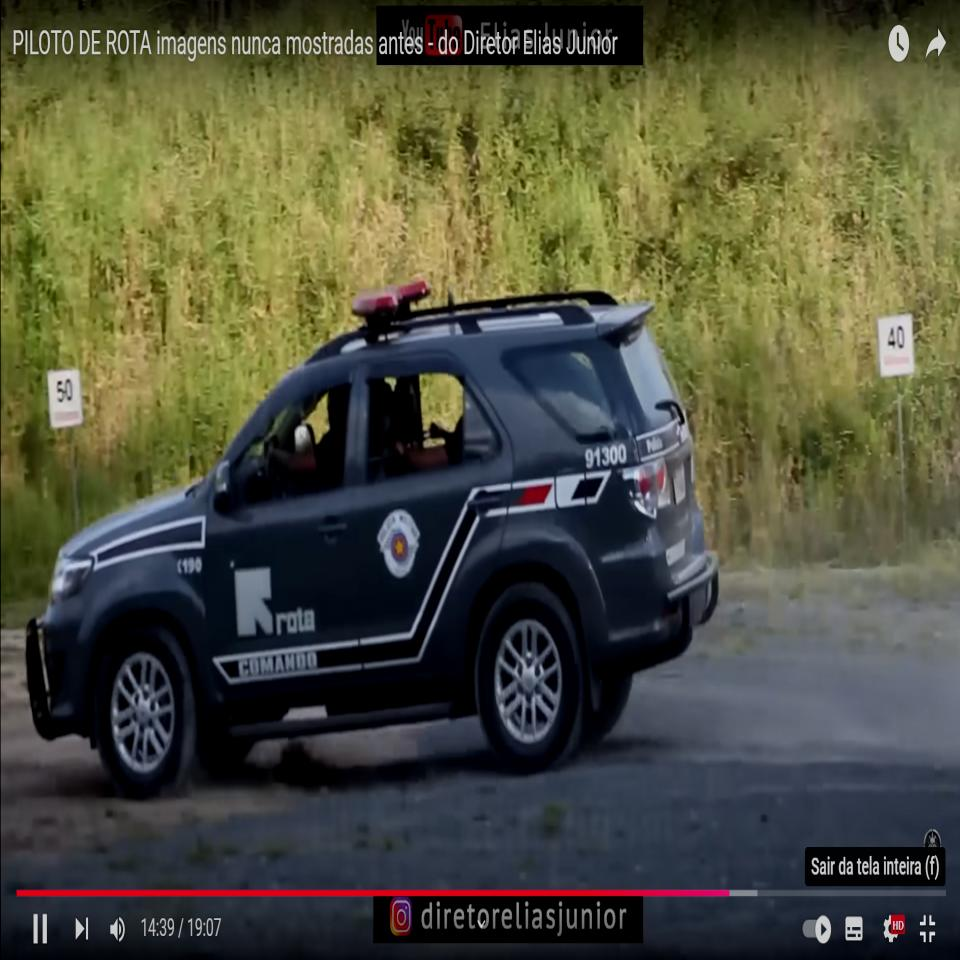viatura: (22, 277, 722, 801)
